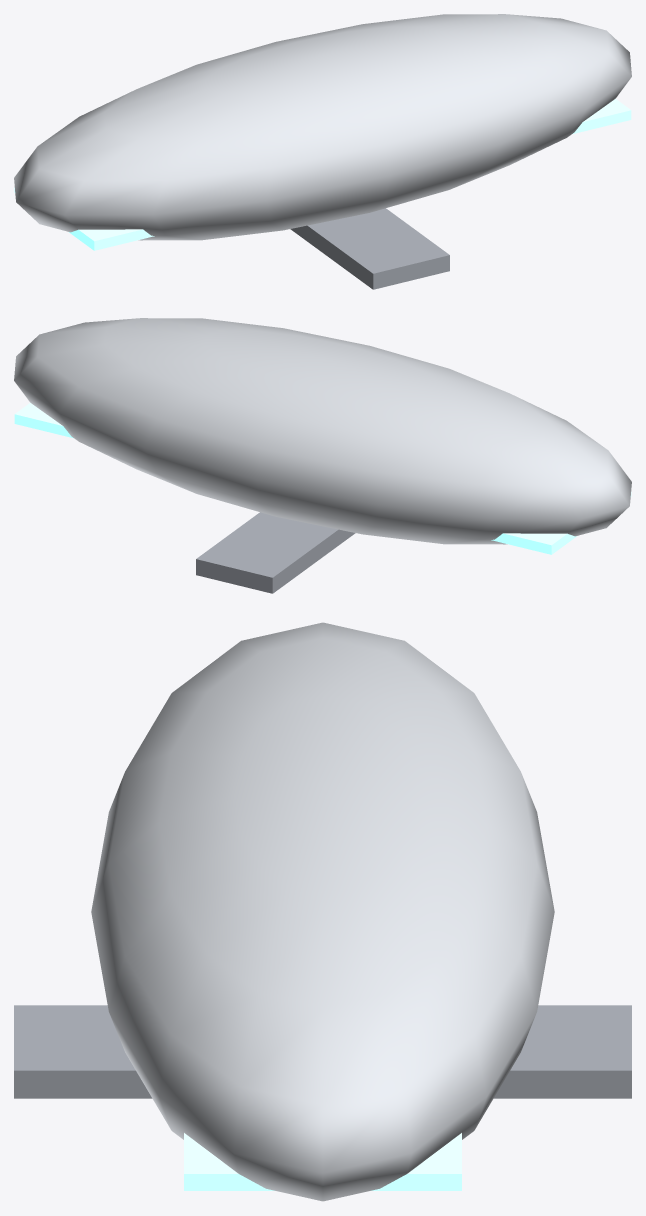
File: ferry_2034.glb
The picture shows the model from 3 angles, top to bottom: view 1: azimuth 30°, elevation 25°; view 2: azimuth 150°, elevation 25°; view 3: azimuth 270°, elevation 25°; orthographic projection. The views are drawn at different scales.
Parts seen in each view (by area): view 1: Hull, Foil, Glow; view 2: Hull, Foil, Glow; view 3: Hull, Foil, Glow.
Boxes of the visible parts, x1,y1,x2,y2 form: Hull: (14, 14, 631, 240); Foil: (290, 208, 449, 289); Glow: (14, 98, 631, 250); Hull: (14, 318, 631, 544); Foil: (196, 512, 355, 593); Glow: (14, 402, 631, 554); Hull: (91, 622, 554, 1201); Foil: (14, 1005, 631, 1098); Glow: (184, 1133, 461, 1190).
Bounding box in the file's own units: 0.8 × 0.2 × 0.4.
